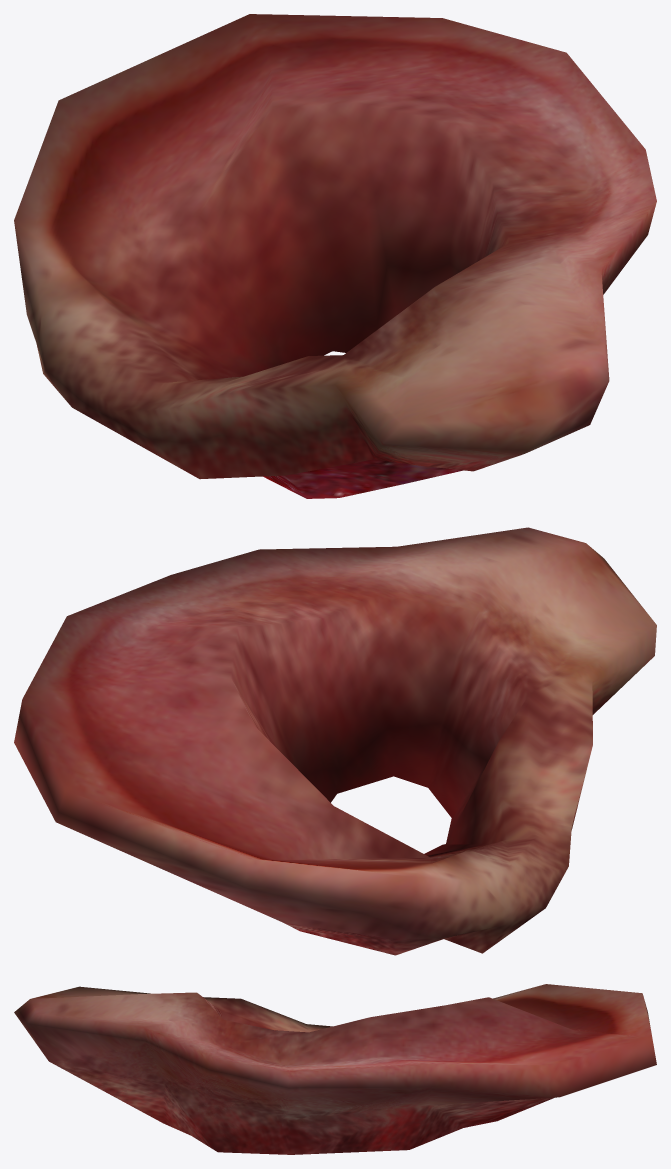
The model's file is Ear_2_low.fbx.
3 views of the same model, one above another, from view 1: azimuth 30°, elevation 25°; view 2: azimuth 150°, elevation 25°; view 3: azimuth 270°, elevation 25° (orthographic). The views are drawn at different scales.
Parts seen in each view (by area): view 1: Ear_2_low; view 2: Ear_2_low; view 3: Ear_2_low.
Boxes of the visible parts, x1,y1,x2,y2 form: Ear_2_low: (14, 14, 656, 498); Ear_2_low: (14, 527, 656, 955); Ear_2_low: (14, 984, 656, 1154).
Size of the model in its own units: 0.0321 by 0.016 by 0.049.
